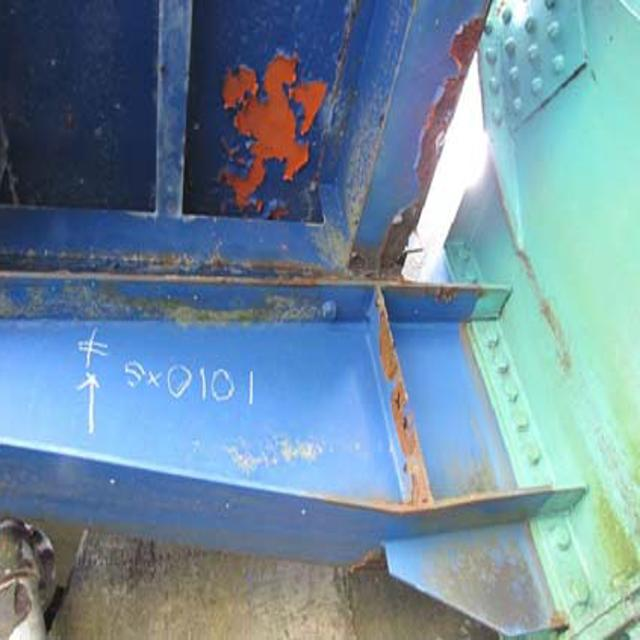corrosion: (380, 40, 483, 490), (222, 48, 332, 222)
